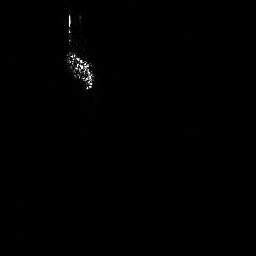ship: (66, 12, 97, 92)
